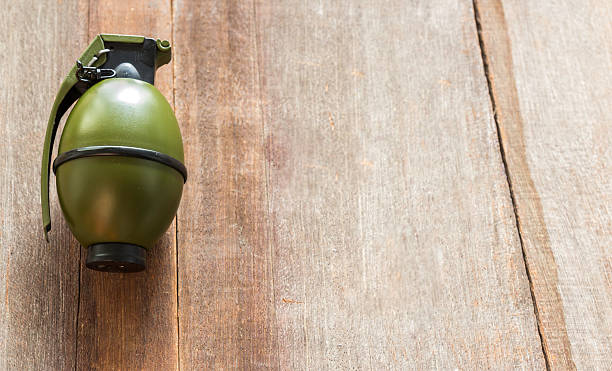e1: (38, 32, 191, 271)
